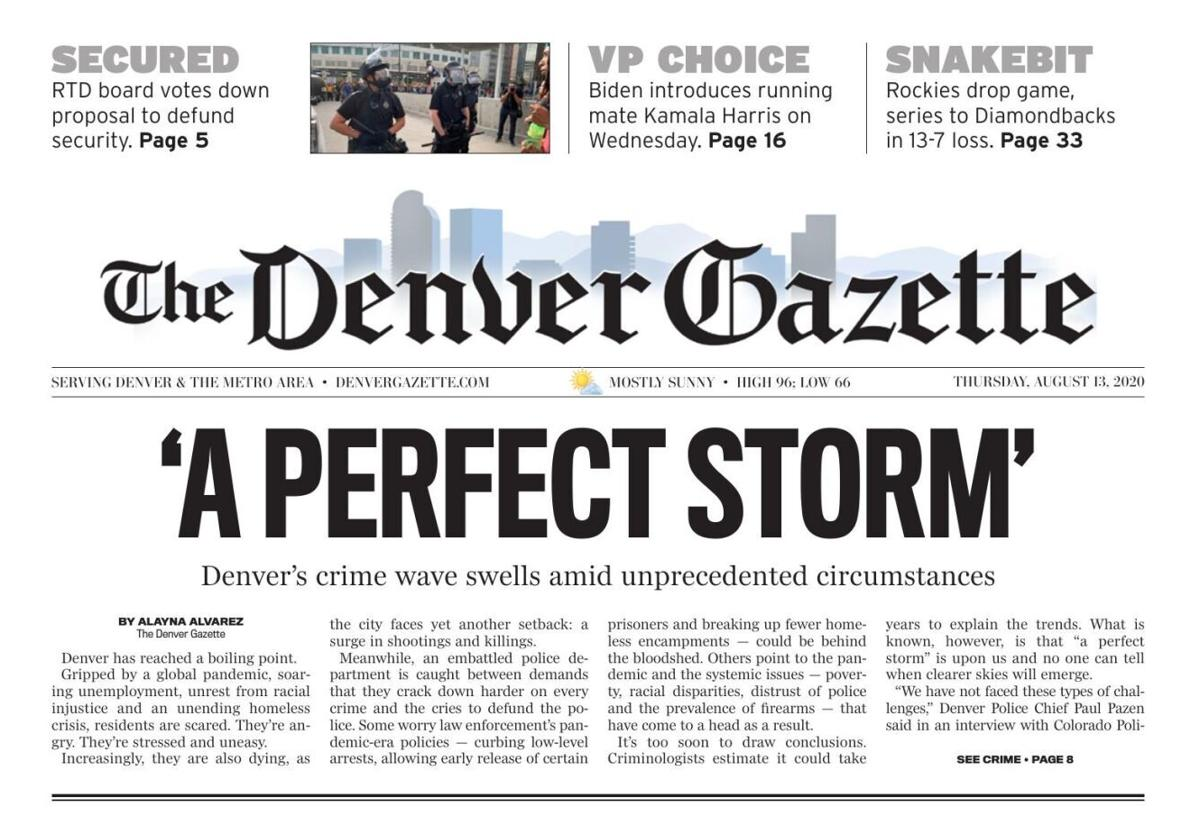news_paper: (6, 1, 1193, 817)
